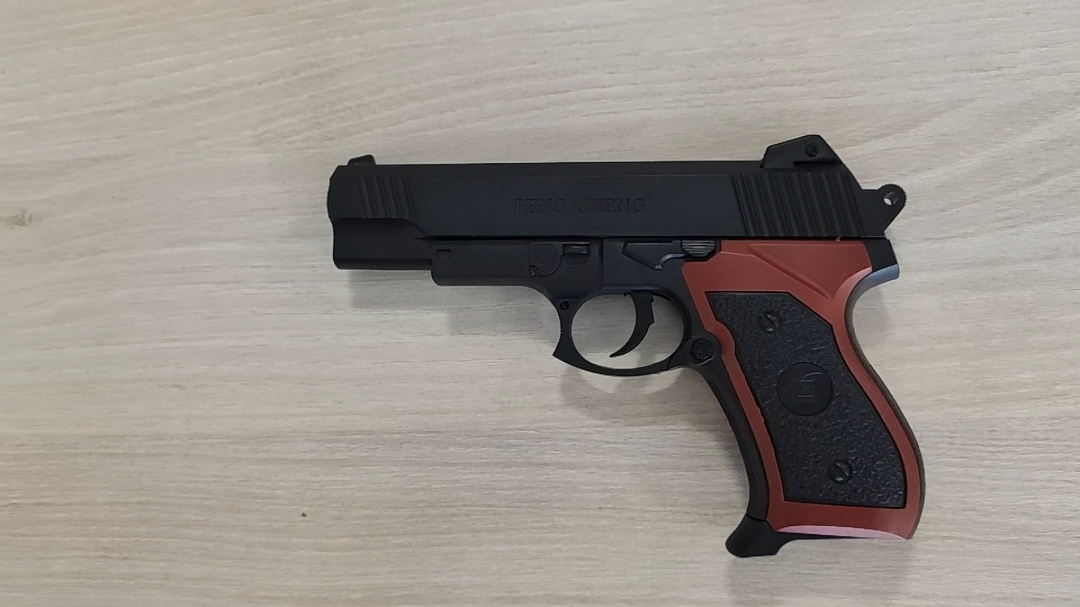gun: (328, 131, 928, 564)
